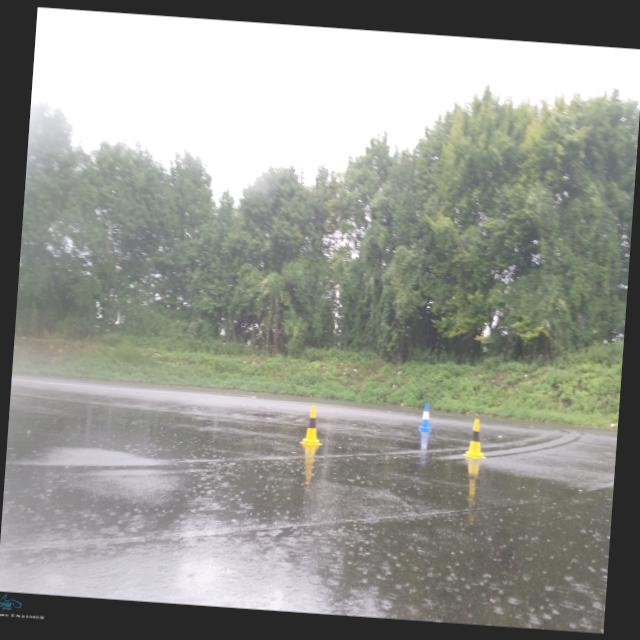blue_cone: (418, 402, 433, 431)
yellow_cone: (298, 404, 324, 446), (462, 418, 488, 459)
